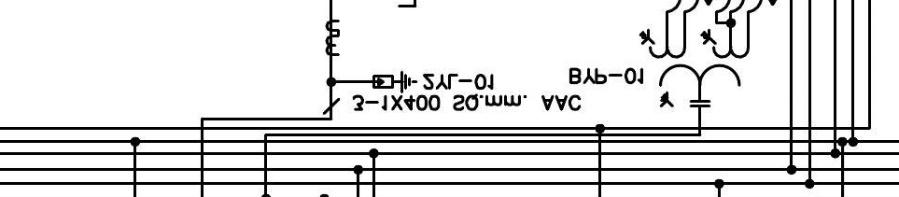115_cvt_3p: (638, 28, 750, 108)
115_la: (372, 70, 418, 94)
